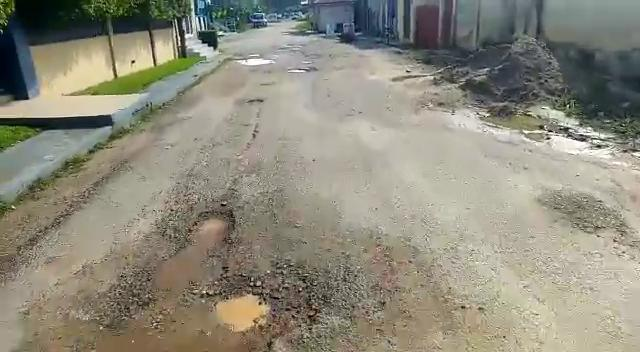pothole: (215, 285, 274, 333)
